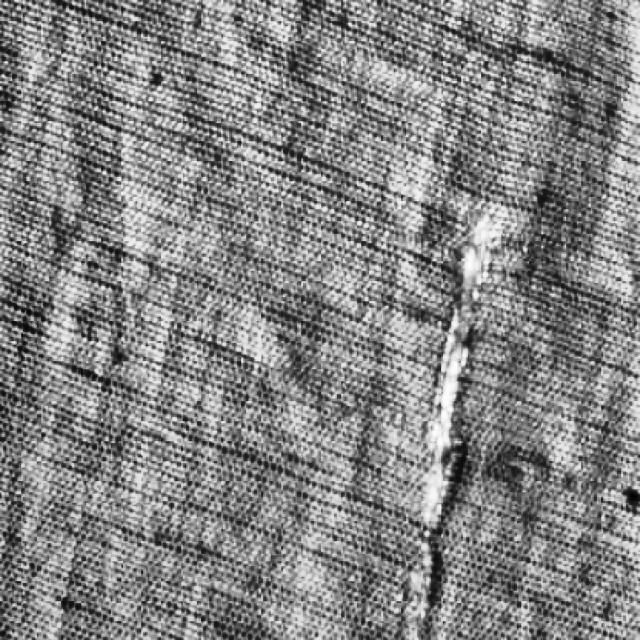thread_error: (389, 182, 521, 640)
